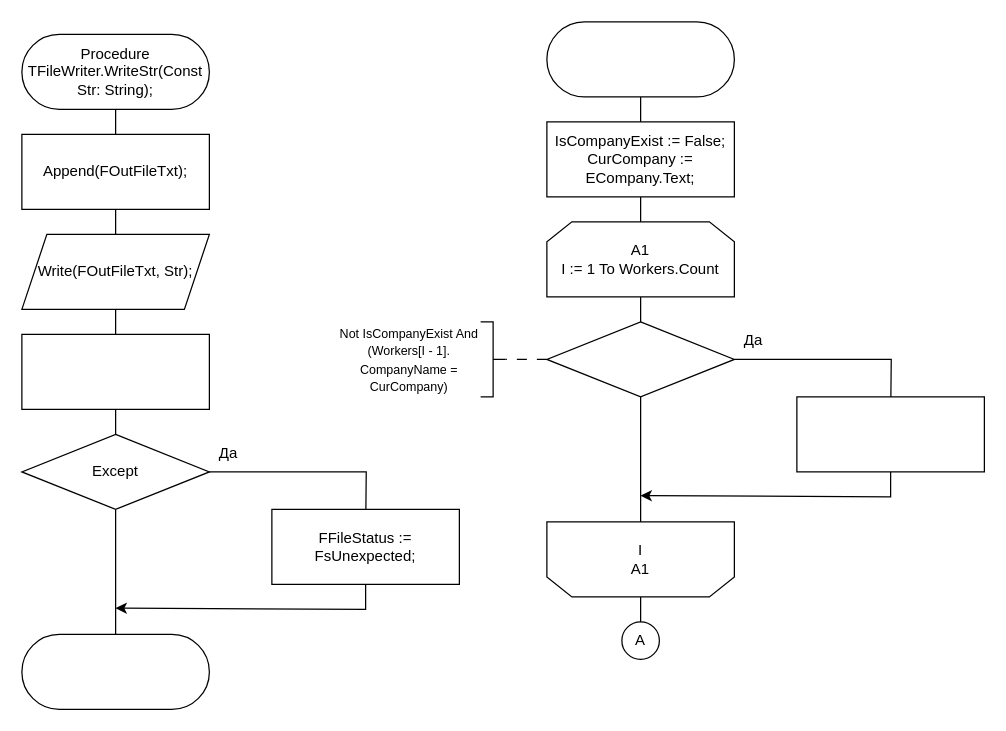
The diagram is 1006 pixels wide and 731 high, and some of its shapes have lost their labels. Here are the shapes that lost their labels. From the top down, the box of each, then its label:
(546, 21, 734, 97): Procedure TuVCLMain. BitbtShowDopInfoClick (Sender: TObject);
(21, 333, 209, 409): CloseFile(FOutFileTxt);
(796, 396, 984, 472): IsCompanyExist := True;
(21, 633, 209, 709): Конец
